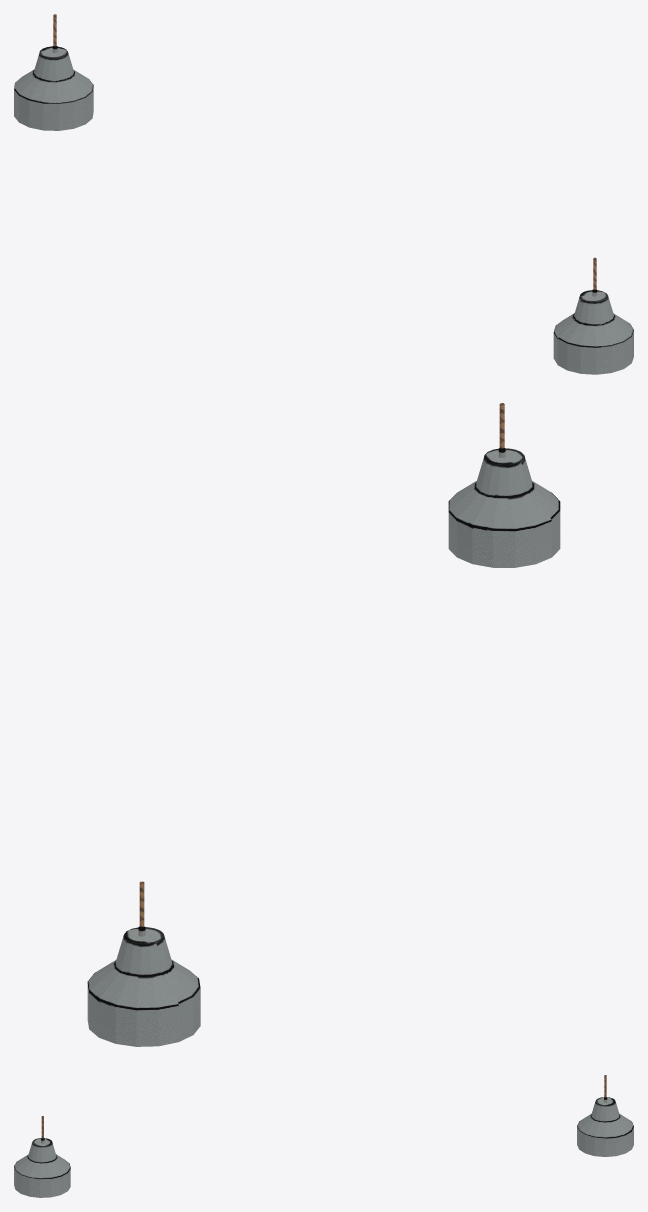
The model's file is detail_ceiling_lights.glb.
The picture shows the model from 3 angles, top to bottom: view 1: azimuth 30°, elevation 25°; view 2: azimuth 150°, elevation 25°; view 3: azimuth 270°, elevation 25°; orthographic projection. The views are drawn at different scales.
Visible parts, largest first — view 1: Lamp_ceiling, Lamp_ceiling.001; view 2: Lamp_ceiling.001, Lamp_ceiling; view 3: Lamp_ceiling, Lamp_ceiling.001.
Part boxes in pixels (x1,y1,x2,y2): Lamp_ceiling: (553, 257, 633, 374); Lamp_ceiling.001: (14, 14, 93, 130); Lamp_ceiling.001: (87, 881, 200, 1046); Lamp_ceiling: (448, 403, 560, 567); Lamp_ceiling: (14, 1116, 70, 1197); Lamp_ceiling.001: (577, 1075, 633, 1156).
Size of the model in its own units: 0.1134 by 0.0566 by 0.4043.
1 material, 1 textured.
